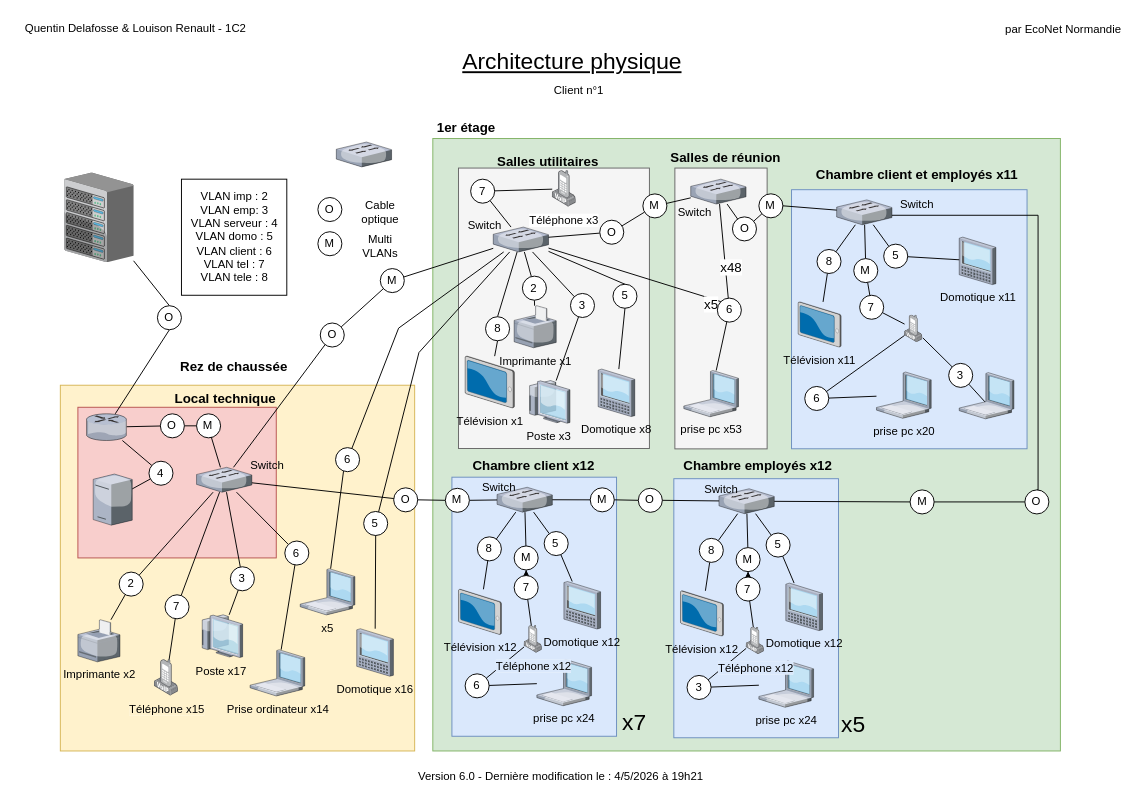
Image size: 1143x807. Some labels were removed from this diagram. The shapes that lost their labels are listed below. From the top down, each one's box as (x1, y1, x2, y2) in pixels, then its label:
(336, 142, 391, 166): Switch 48 ports + 4 SFP+
(64, 172, 133, 262): Internet FAI
(904, 315, 922, 342): Téléphone x11
(959, 372, 1013, 418): prise pc x2
(86, 413, 126, 440): Routeur
(93, 474, 132, 525): Serveur
